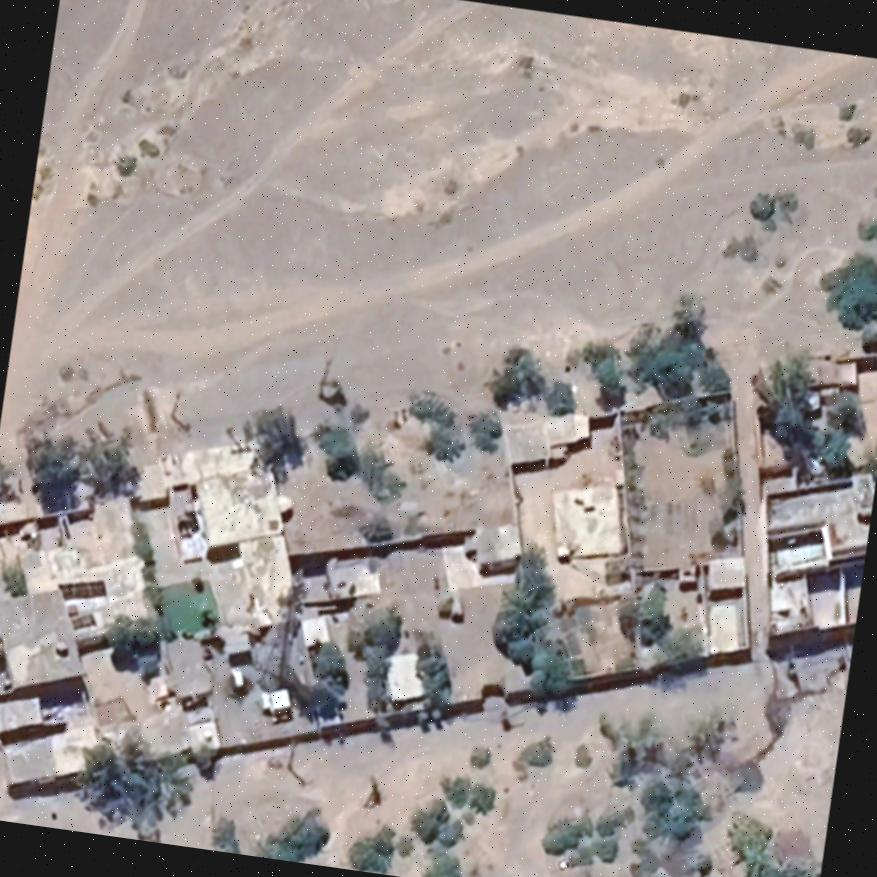Solarpanel: (49, 577, 109, 604)
